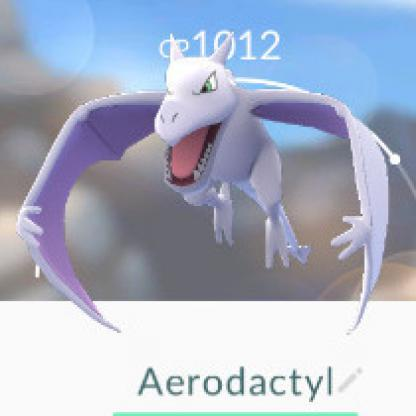Aerodactyl: (13, 36, 407, 342)
